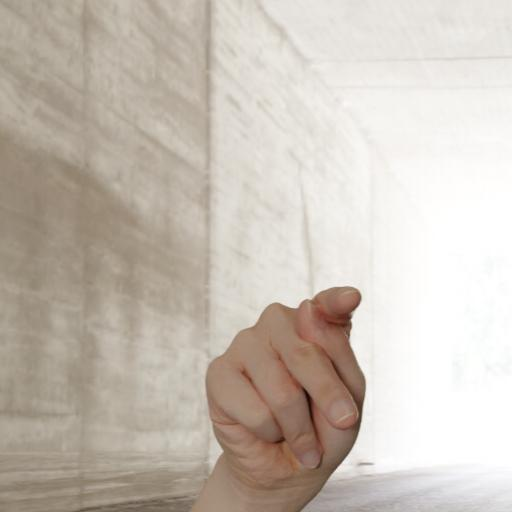P: (182, 270, 378, 512)
